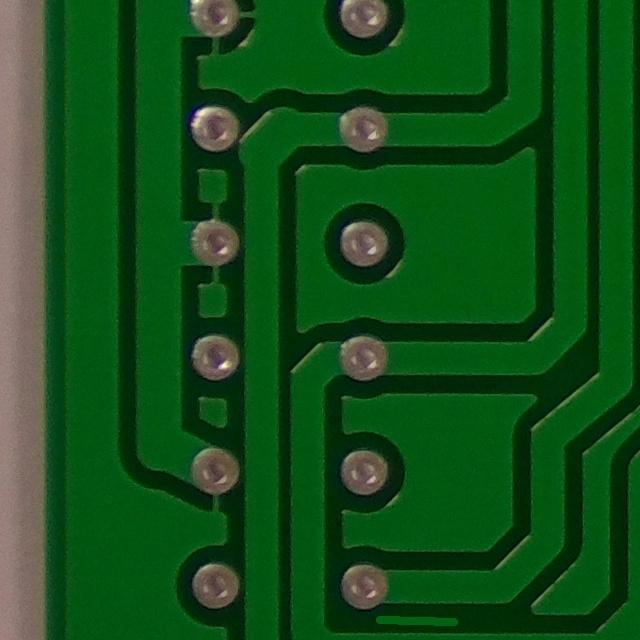spurious_copper: (369, 603, 464, 638)
